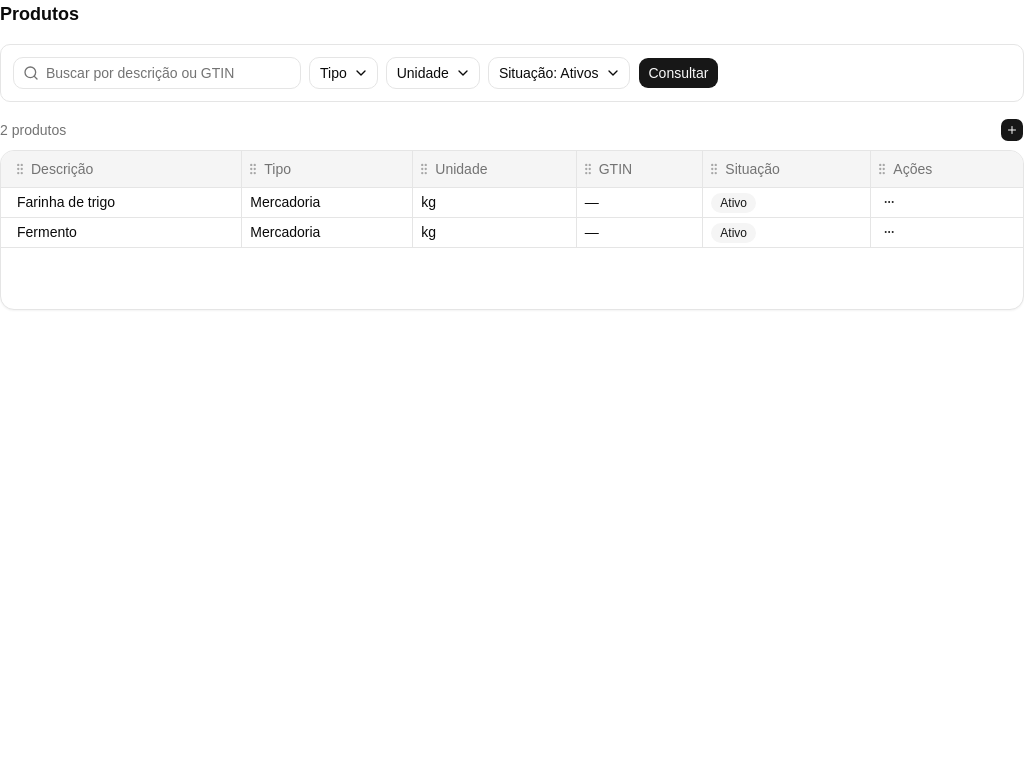
it: ProductsListPage › asks for no recipe after registering a product that is not manufactured
Click the button named "Novo produto" at (1012, 130), box [1000, 118, 1023, 142]
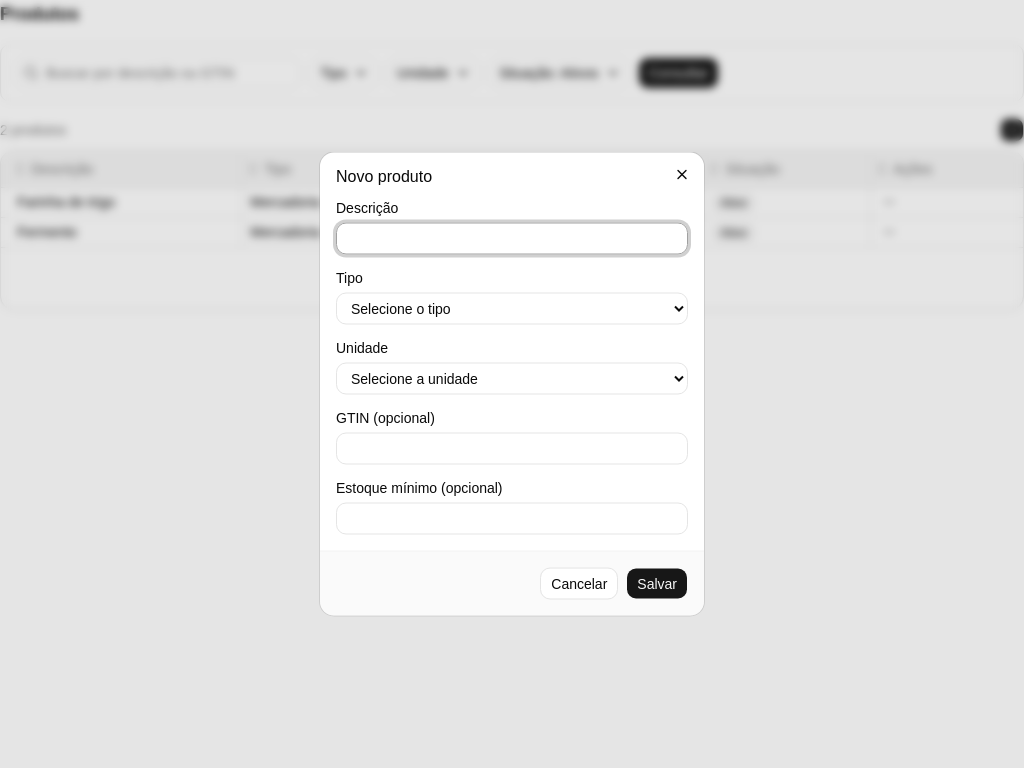
Type "Fermento" into the field labelled "Descrição" at (512, 238), box [336, 222, 688, 254]
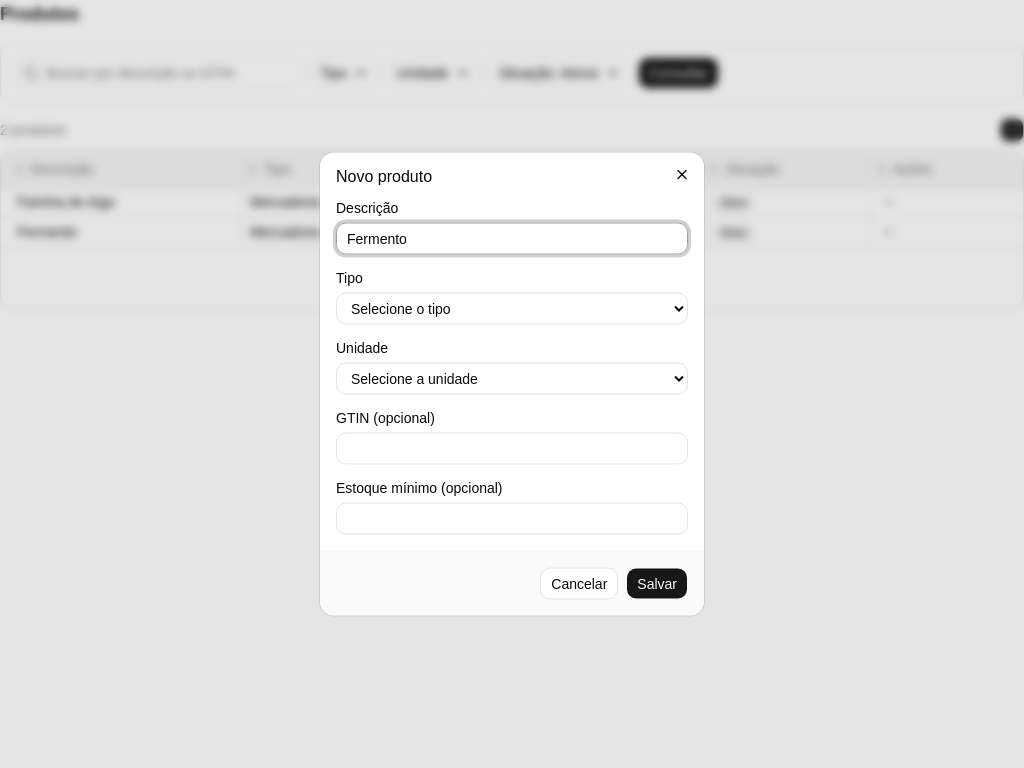
Select "Mercadoria" in the dropdown labelled "Tipo" at (512, 308), box [336, 292, 688, 324]
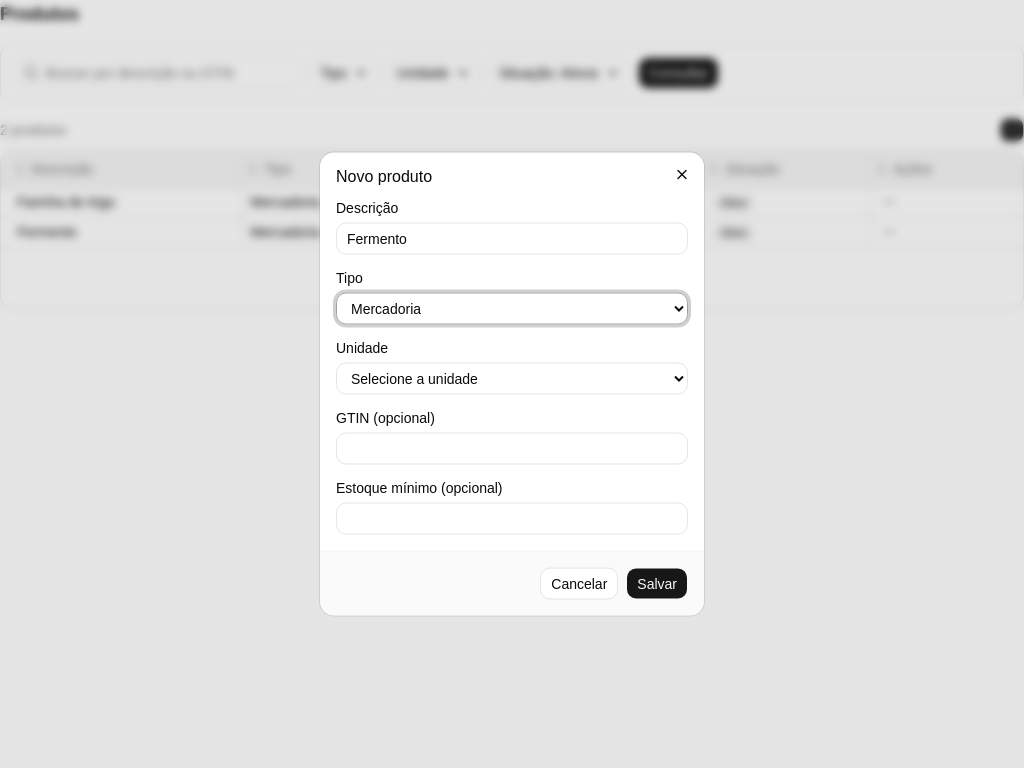
Select "Quilograma (kg)" in the dropdown labelled "Unidade" at (512, 378), box [336, 362, 688, 394]
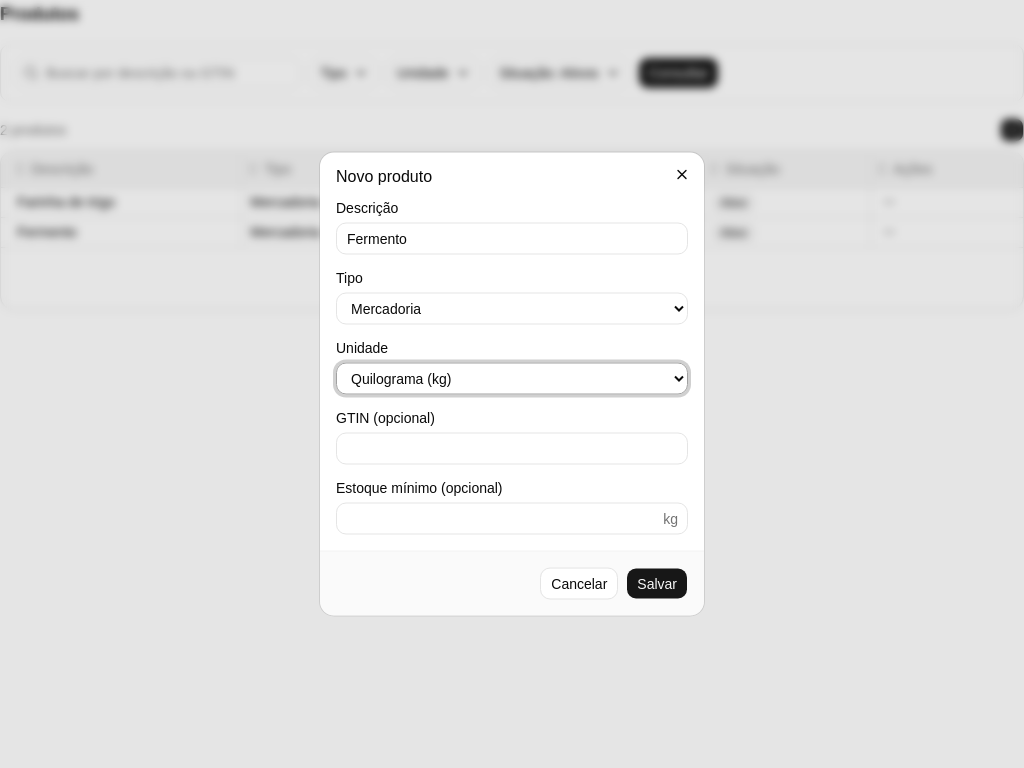
Click the button "Salvar" at (657, 584), box [626, 568, 688, 600]
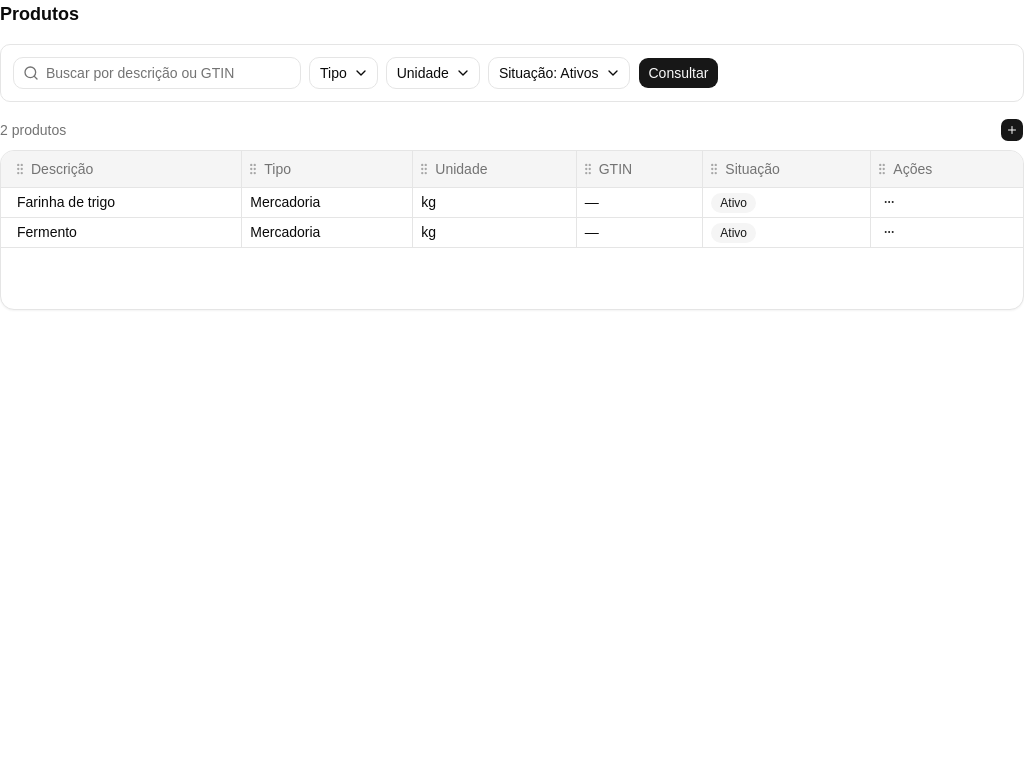
Check: the cell "Fermento" is shown, box [1, 217, 242, 247]
Check: the dialog is gone
